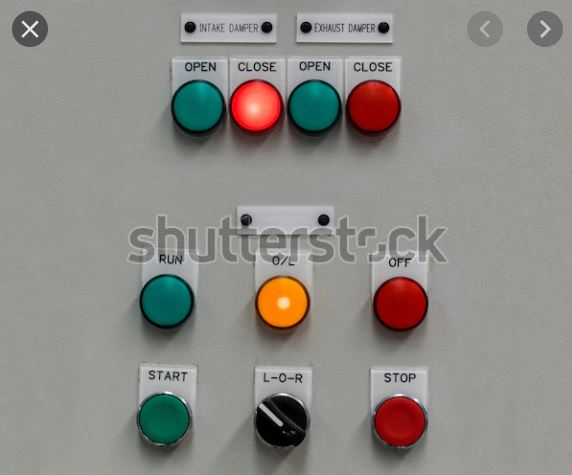Green_Led_Off: (133, 390, 195, 452), (137, 270, 197, 333), (288, 77, 345, 141), (170, 76, 226, 140)
Red_Led_Off: (369, 392, 434, 455), (370, 275, 430, 338), (347, 79, 403, 140)
Red_Led_On: (230, 78, 286, 139)
Yellow_Led_On: (254, 274, 313, 336)
